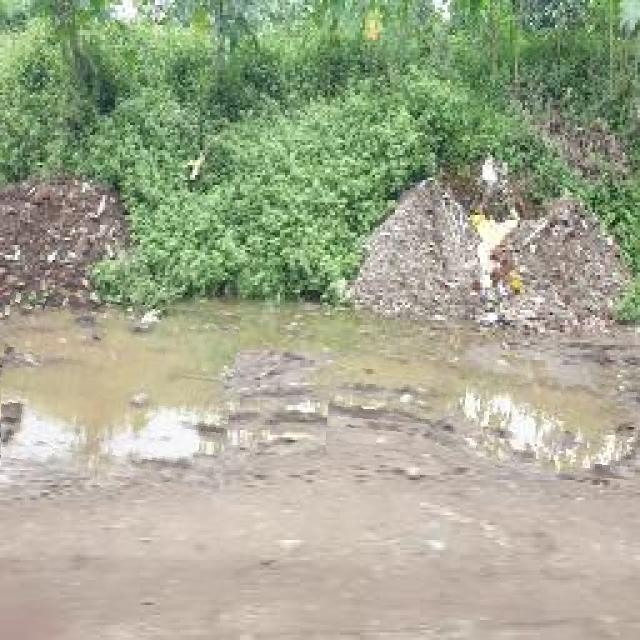puddle: (1, 296, 237, 487), (329, 360, 640, 475)
